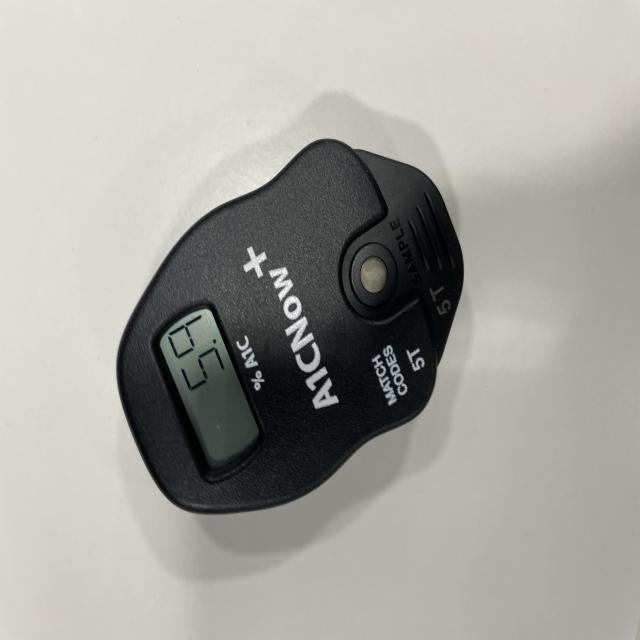hba1c: (116, 139, 466, 518)
